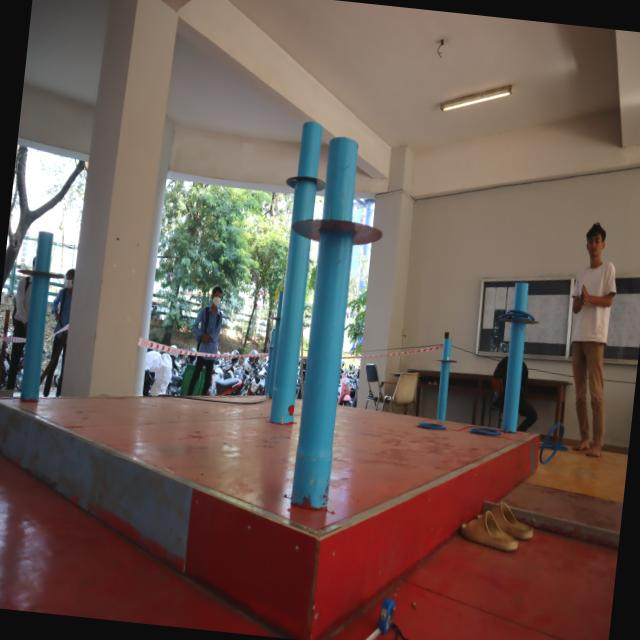pole: (294, 133, 388, 284), (279, 108, 336, 206), (24, 222, 64, 328), (496, 268, 546, 350), (431, 331, 468, 392)
